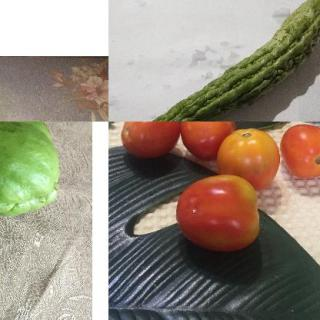Tomat: (119, 120, 320, 257)
